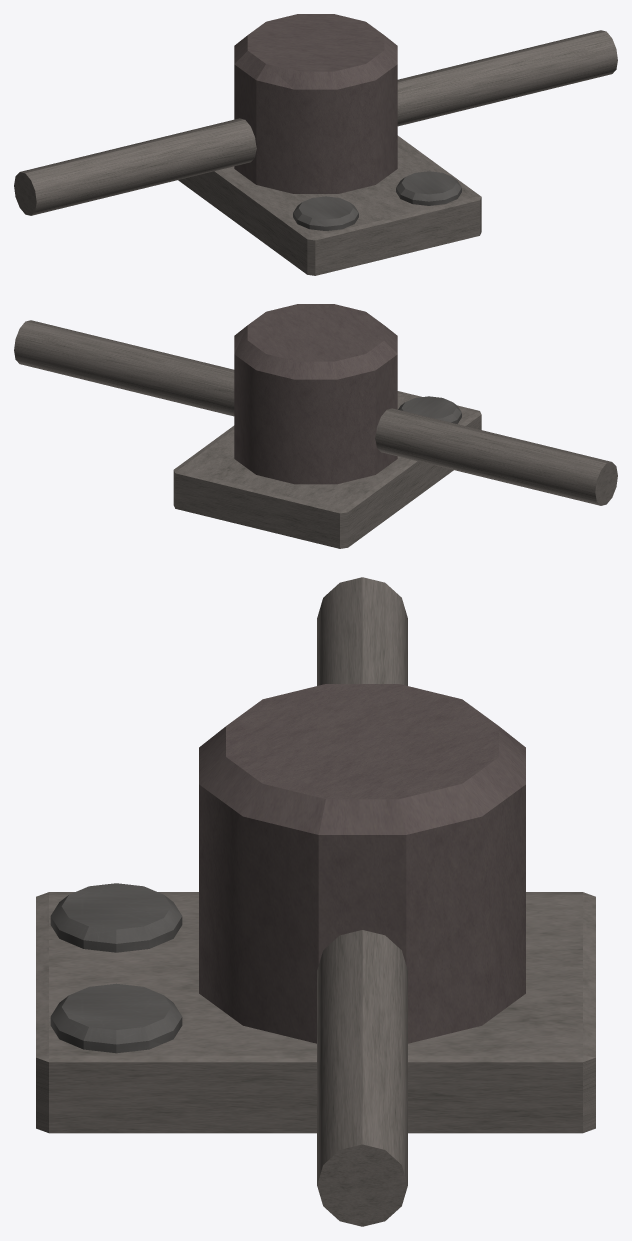
Rendered from Rails_5.fbx.
The picture shows the model from 3 angles, top to bottom: view 1: azimuth 30°, elevation 25°; view 2: azimuth 150°, elevation 25°; view 3: azimuth 270°, elevation 25°; orthographic projection. The views are drawn at different scales.
Visible parts, largest first — view 1: Rails_5; view 2: Rails_5; view 3: Rails_5.
Part boxes in pixels (box(x1,y1,x2,y2)): Rails_5: box(14, 14, 617, 275); Rails_5: box(14, 304, 617, 548); Rails_5: box(36, 577, 595, 1226).
Size of the model in its own units: 1 by 0.252 by 0.4173.
